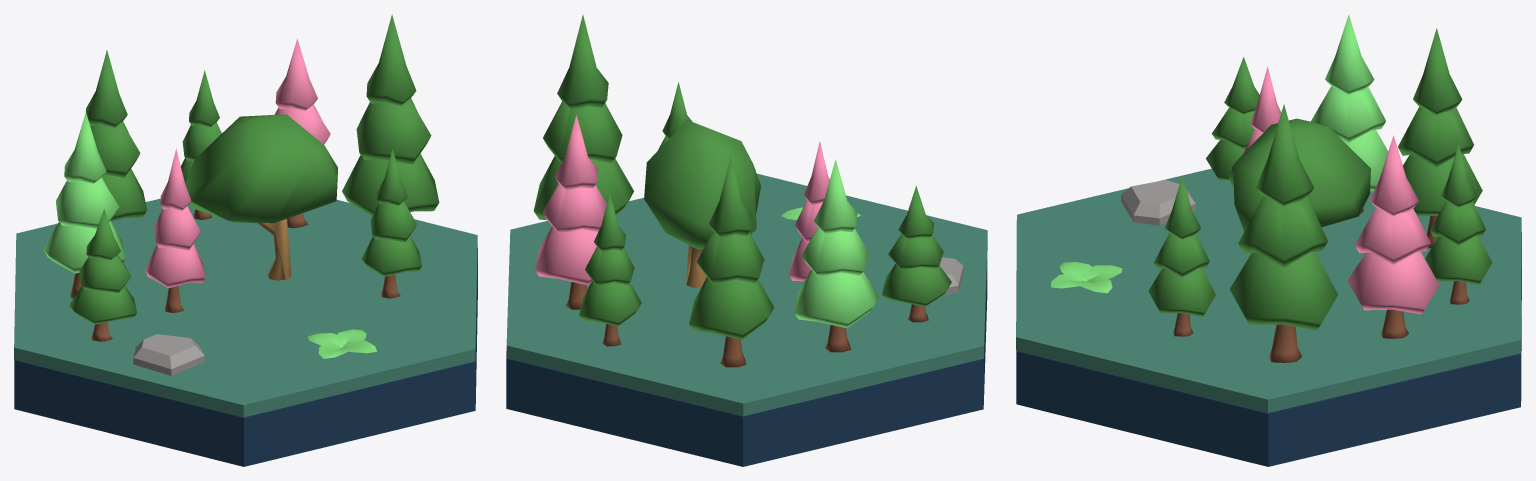
The model's file is Macro - Land Forest.fbx.
3 renders of one model, left to right at view 1: azimuth 30°, elevation 25°; view 2: azimuth 150°, elevation 25°; view 3: azimuth 270°, elevation 25°, orthographic. The views are drawn at different scales.
Visible parts, largest first — view 1: Cylinder.004, Cylinder.003, tree1 v:88 f:56, Tree_Spruce_tiny_01.001, Tree_Spruce_tiny_01.002, Tree_Spruce_tiny_01.005, Tree_Spruce_tiny_01.008, Tree_Spruce_tiny_01.006, Tree_Spruce_tiny_01.007, Tree_Spruce_tiny_01.004, Rock Type4 04 mesh.001, Tree_Spruce_tiny_01.003 (+1 smaller); view 2: Cylinder.004, Cylinder.003, tree1 v:88 f:56, Tree_Spruce_tiny_01.005, Tree_Spruce_tiny_01.002, Tree_Spruce_tiny_01.001, Tree_Spruce_tiny_01.004, Tree_Spruce_tiny_01.006, Tree_Spruce_tiny_01.003, Tree_Spruce_tiny_01.008, Tree_Spruce_tiny_01.007, Rock Type4 04 mesh.001; view 3: Cylinder.004, Cylinder.003, Tree_Spruce_tiny_01.001, Tree_Spruce_tiny_01.004, tree1 v:88 f:56, Tree_Spruce_tiny_01.005, Tree_Spruce_tiny_01.002, Tree_Spruce_tiny_01.007, Tree_Spruce_tiny_01.003, Tree_Spruce_tiny_01.006, Rock Type4 04 mesh.001, Plane.011 (+1 smaller).
Part boxes in pixels (left/top/right/bottom): Cylinder.004: left=14, top=198, right=477, bottom=417; Cylinder.003: left=14, top=248, right=477, bottom=466; tree1 v:88 f:56: left=185, top=114, right=337, bottom=280; Tree_Spruce_tiny_01.001: left=342, top=14, right=439, bottom=215; Tree_Spruce_tiny_01.002: left=43, top=112, right=125, bottom=298; Tree_Spruce_tiny_01.005: left=85, top=50, right=147, bottom=221; Tree_Spruce_tiny_01.008: left=145, top=148, right=205, bottom=312; Tree_Spruce_tiny_01.006: left=69, top=209, right=136, bottom=341; Tree_Spruce_tiny_01.007: left=361, top=149, right=421, bottom=298; Tree_Spruce_tiny_01.004: left=274, top=38, right=337, bottom=228; Rock Type4 04 mesh.001: left=133, top=334, right=204, bottom=375; Tree_Spruce_tiny_01.003: left=181, top=70, right=221, bottom=219; Cylinder.004: left=506, top=173, right=987, bottom=415; Cylinder.003: left=506, top=261, right=987, bottom=466; tree1 v:88 f:56: left=644, top=120, right=760, bottom=287; Tree_Spruce_tiny_01.005: left=689, top=156, right=774, bottom=367; Tree_Spruce_tiny_01.002: left=794, top=159, right=878, bottom=352; Tree_Spruce_tiny_01.001: left=533, top=15, right=633, bottom=220; Tree_Spruce_tiny_01.004: left=534, top=115, right=606, bottom=309; Tree_Spruce_tiny_01.006: left=882, top=186, right=951, bottom=322; Tree_Spruce_tiny_01.003: left=579, top=193, right=641, bottom=346; Tree_Spruce_tiny_01.008: left=789, top=141, right=829, bottom=281; Tree_Spruce_tiny_01.007: left=658, top=82, right=692, bottom=149; Rock Type4 04 mesh.001: left=939, top=257, right=963, bottom=295; Cylinder.004: left=1016, top=168, right=1521, bottom=412; Cylinder.003: left=1016, top=232, right=1521, bottom=466; Tree_Spruce_tiny_01.001: left=1229, top=104, right=1337, bottom=362; Tree_Spruce_tiny_01.004: left=1347, top=135, right=1439, bottom=338; tree1 v:88 f:56: left=1229, top=118, right=1370, bottom=231; Tree_Spruce_tiny_01.005: left=1398, top=28, right=1482, bottom=248; Tree_Spruce_tiny_01.002: left=1311, top=14, right=1388, bottom=213; Tree_Spruce_tiny_01.007: left=1148, top=176, right=1215, bottom=336; Tree_Spruce_tiny_01.003: left=1425, top=144, right=1492, bottom=304; Tree_Spruce_tiny_01.006: left=1206, top=57, right=1259, bottom=196; Rock Type4 04 mesh.001: left=1121, top=180, right=1195, bottom=225; Plane.011: left=1051, top=262, right=1122, bottom=293.
Size of the model in its own units: 198 by 121 by 172.
